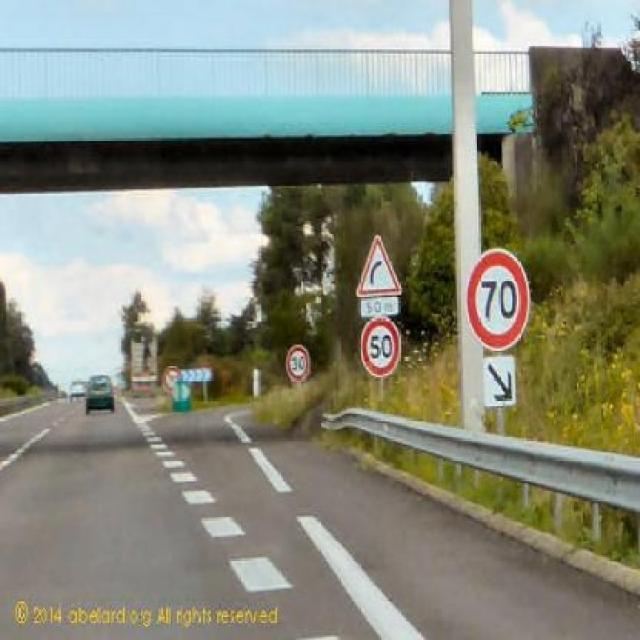forb_speed_over_30: (287, 346, 310, 383)
forb_speed_over_50: (362, 321, 402, 376)
forb_speed_over_70: (469, 252, 531, 349)
